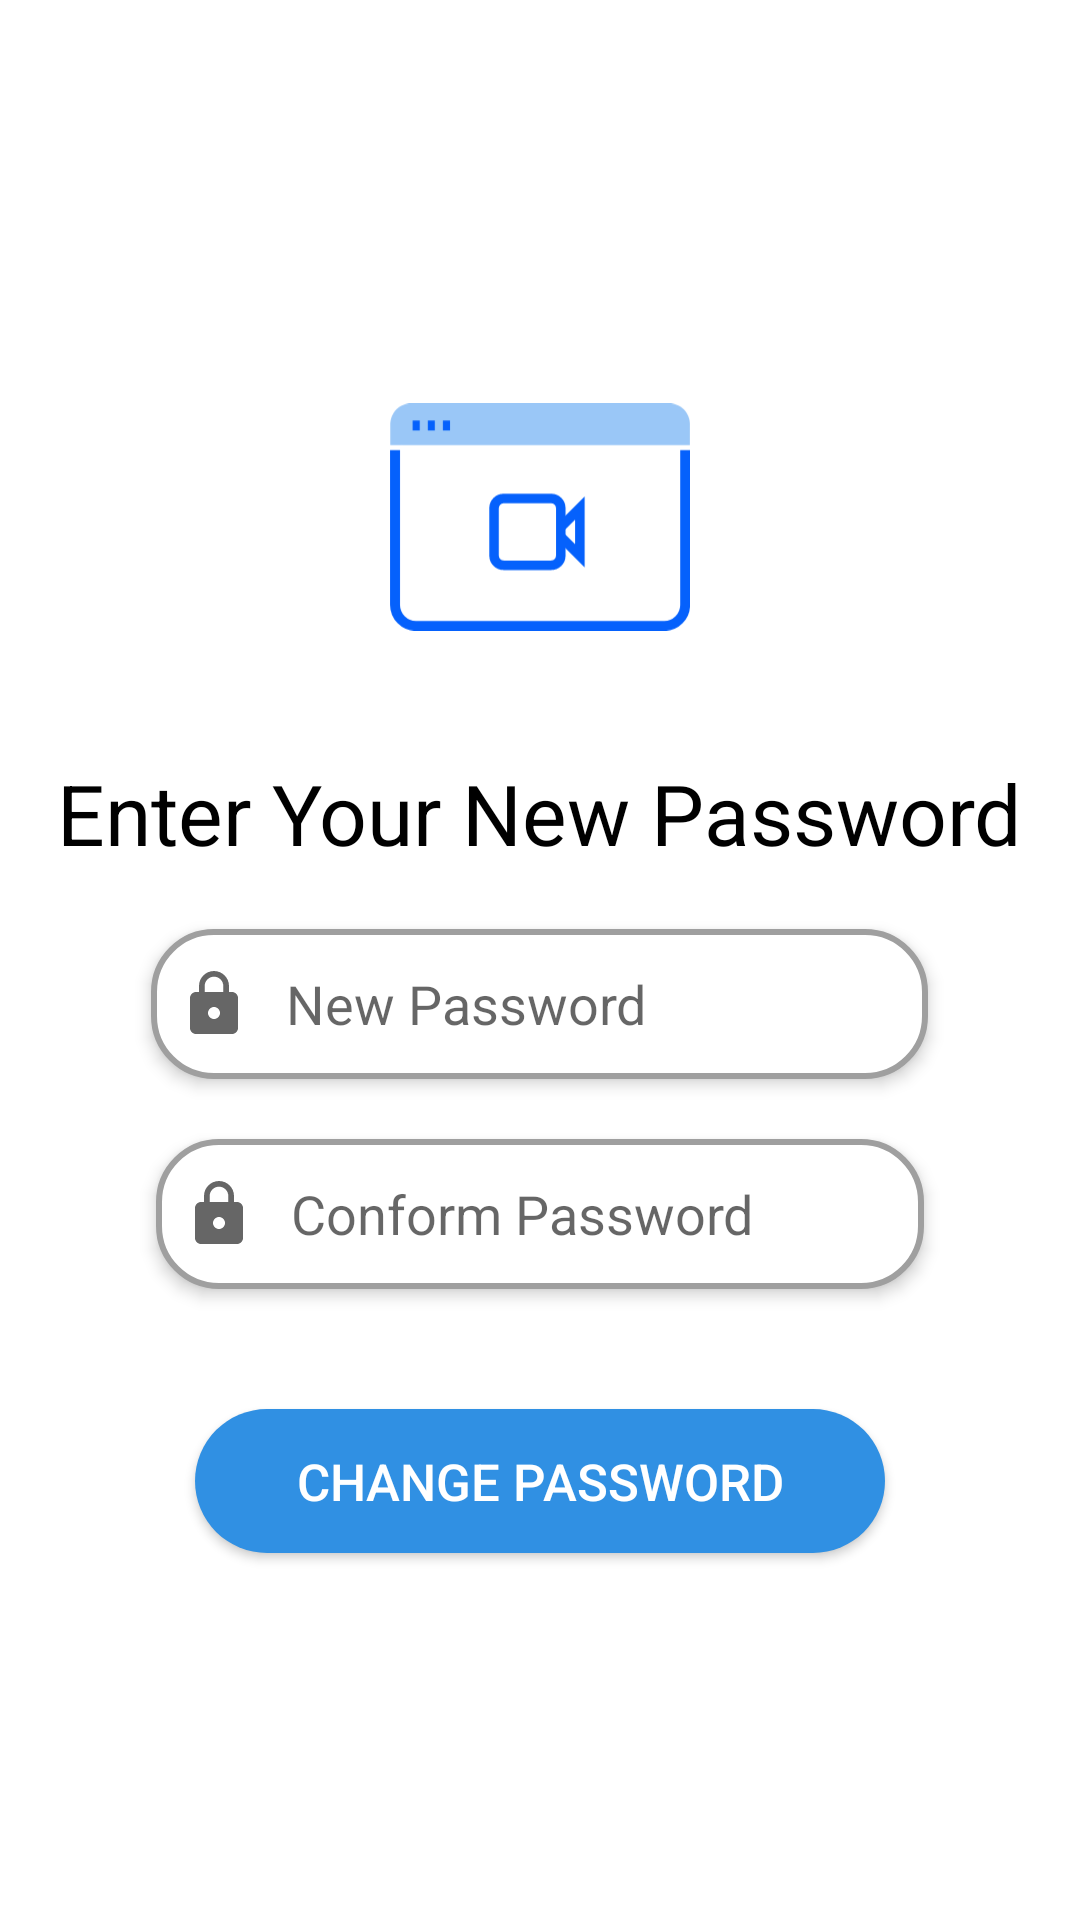

Icons on this 1080px x 1920px Android screen, each with the point to tap as point (x, y):
zoomus: point (540, 517)
